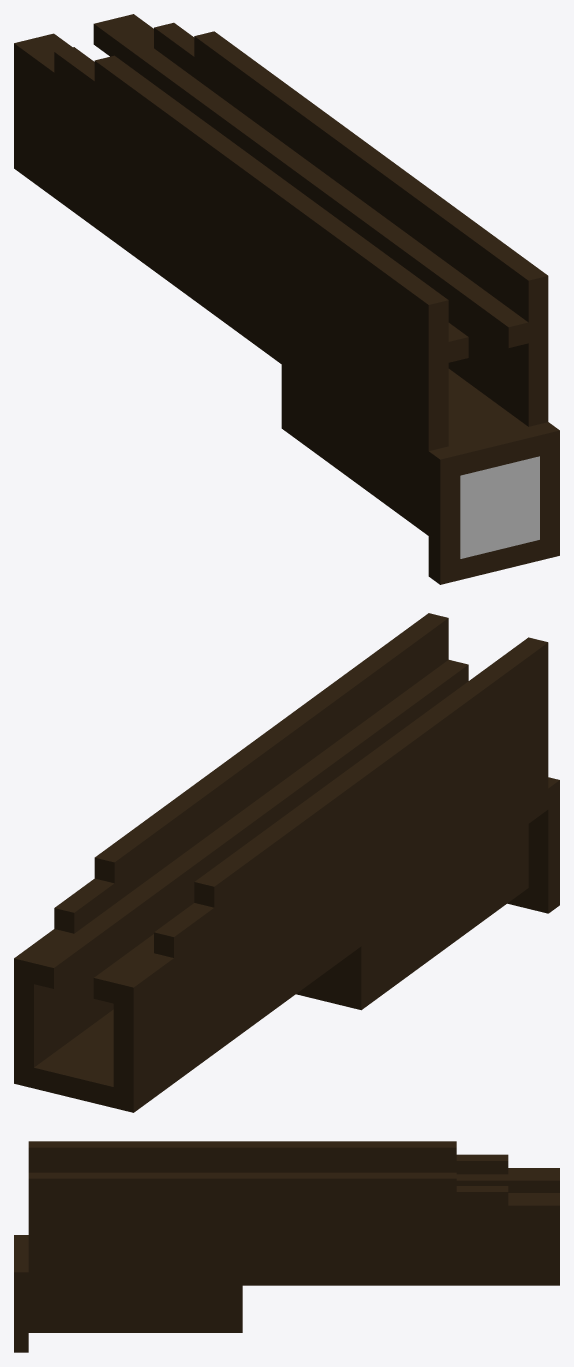
Rendered from pumpAction_flashlight.fbx.
The picture shows the model from 3 angles, top to bottom: view 1: azimuth 30°, elevation 25°; view 2: azimuth 150°, elevation 25°; view 3: azimuth 270°, elevation 25°; orthographic projection. The views are drawn at different scales.
Parts seen in each view (by area): view 1: pumpAction_flashlight; view 2: pumpAction_flashlight; view 3: pumpAction_flashlight.
Part boxes in pixels (bbox=[...]): pumpAction_flashlight: bbox=[14, 14, 559, 584]; pumpAction_flashlight: bbox=[14, 613, 559, 1112]; pumpAction_flashlight: bbox=[14, 1141, 559, 1352].
Bounding box in the file's own units: 7.2 × 15.6 × 44.4.
